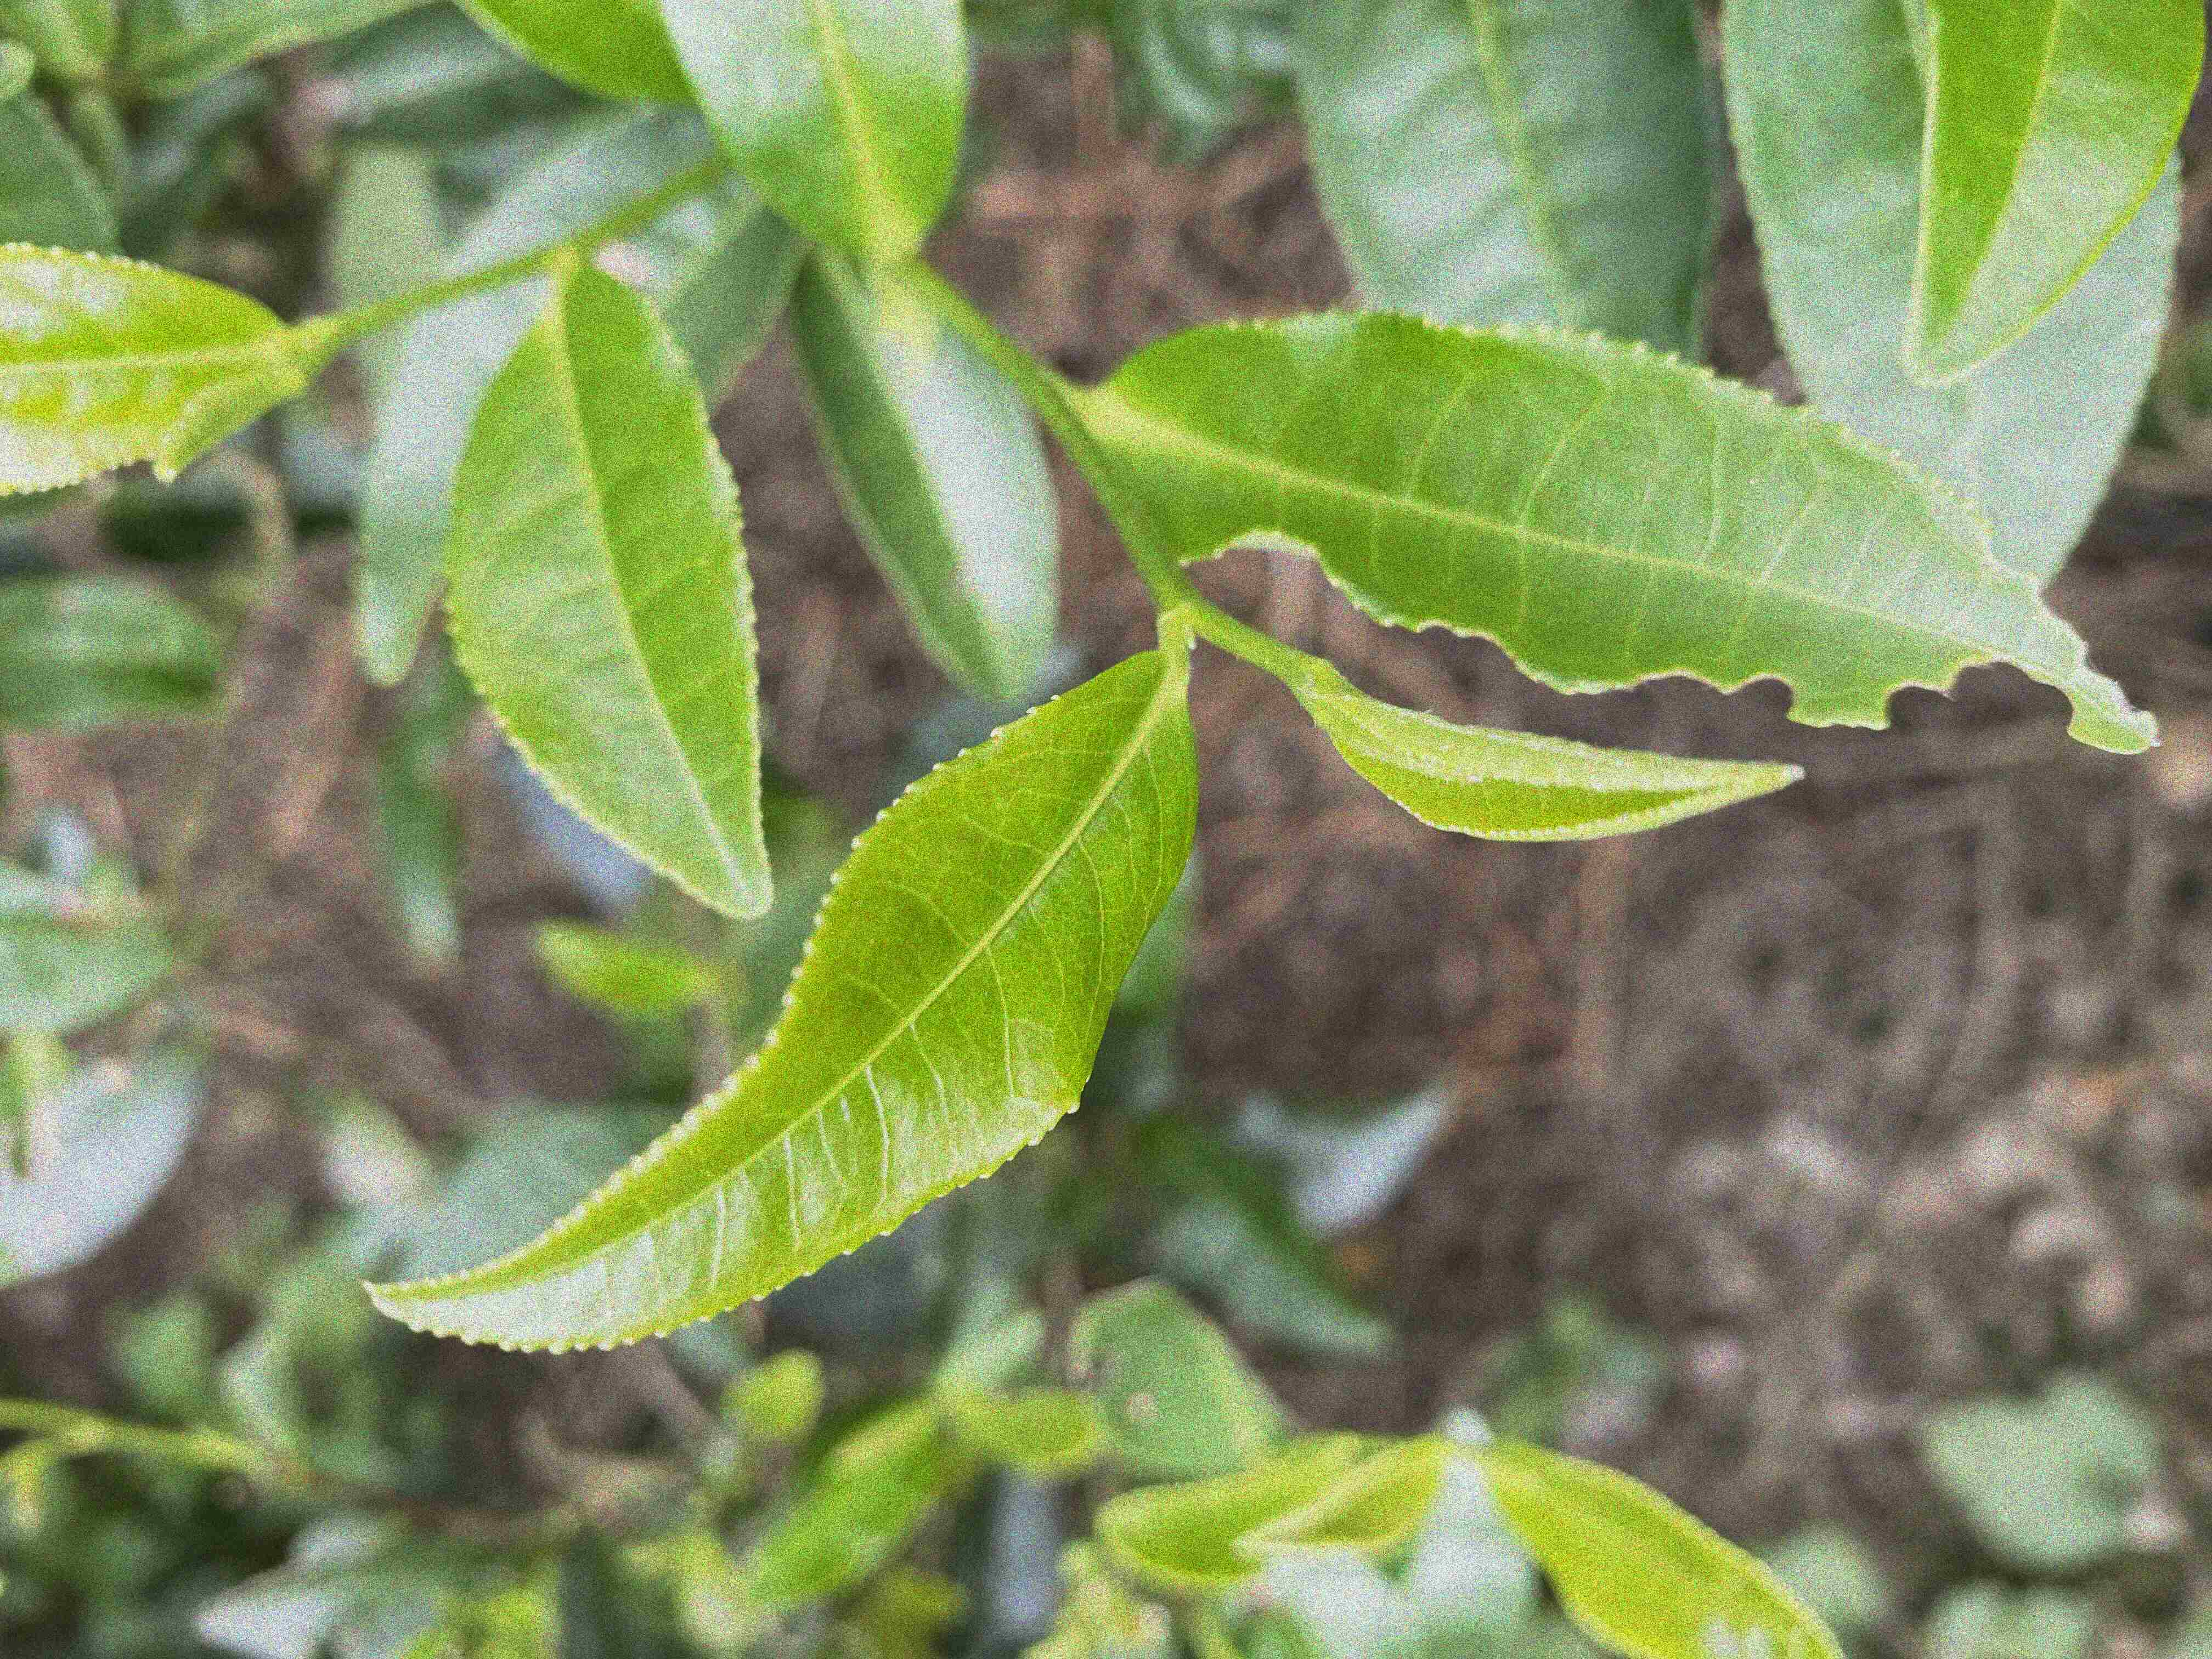chihuo_high: (1096, 308, 2160, 755)
healthy: (362, 653, 1200, 1356), (441, 281, 773, 920), (1898, 3, 2207, 392)
